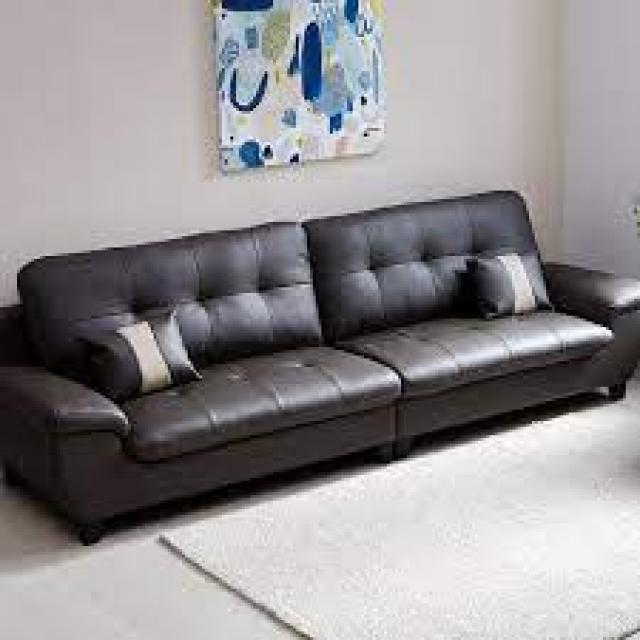Sofa: (3, 178, 640, 575)
